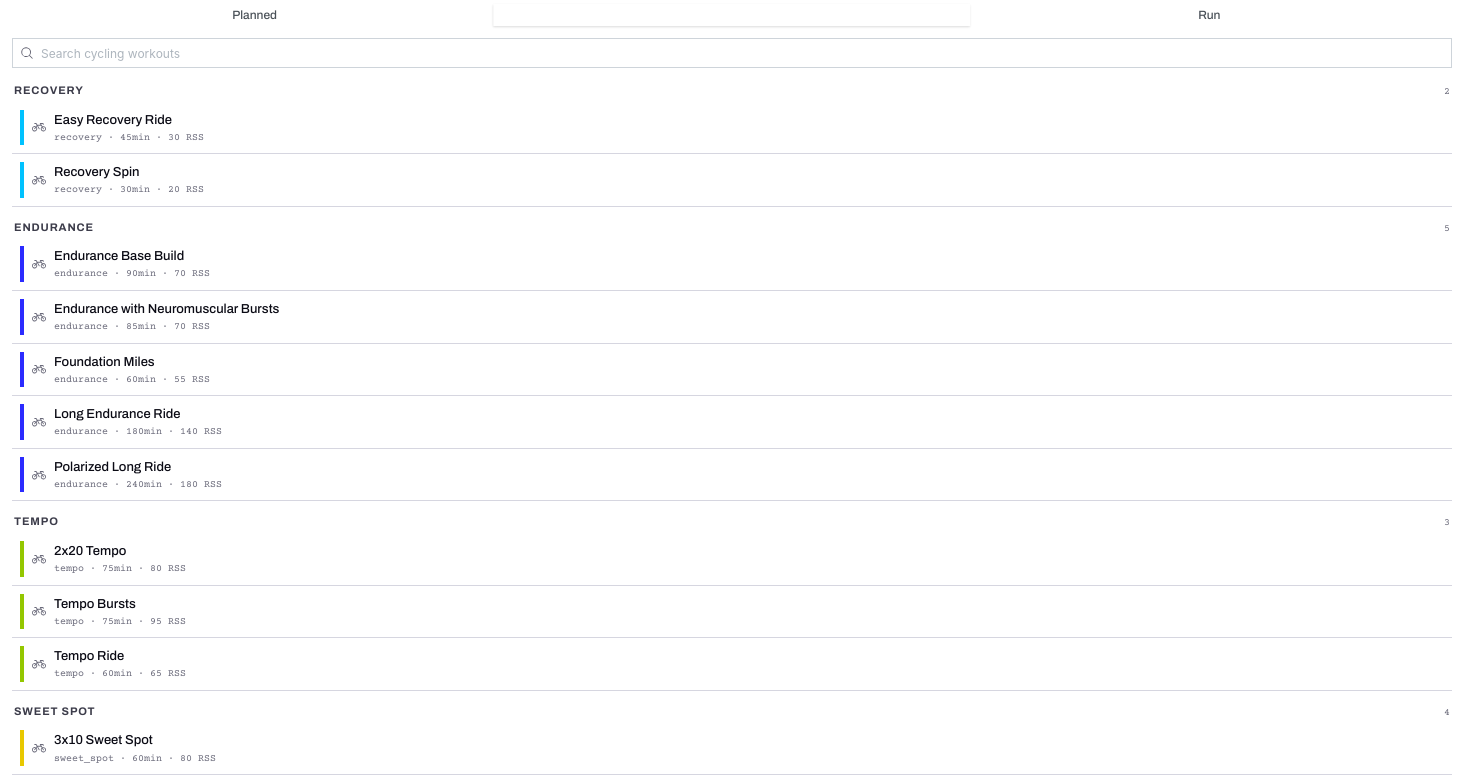
WorkoutPickerPanel › filters the active library tab by search
Type "zzzznotathing" into the field with placeholder "Search cycling workouts" at (732, 53), box [12, 38, 1452, 68]
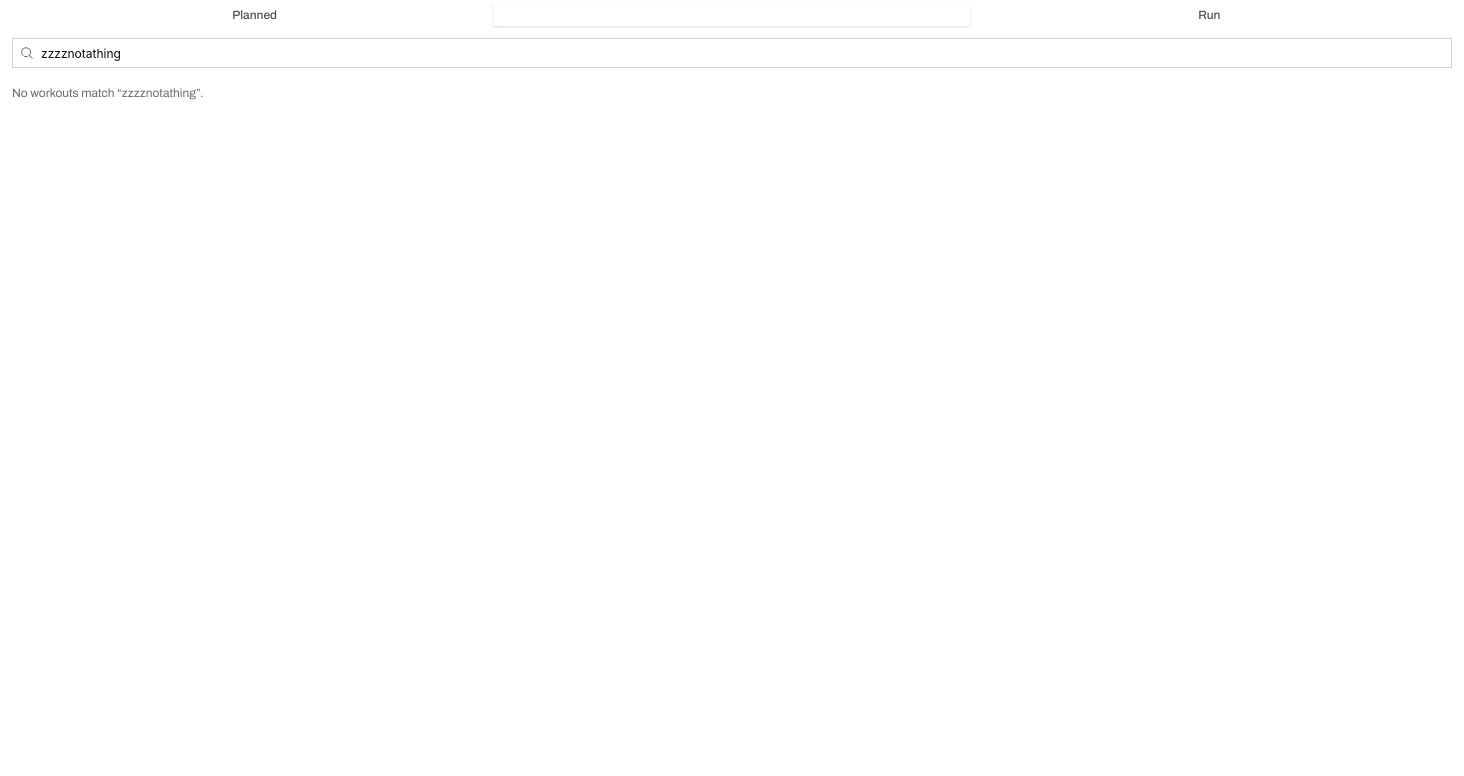
Expected: the text "No workouts match “zzzznotathing”." is shown, [12, 86, 203, 100]
